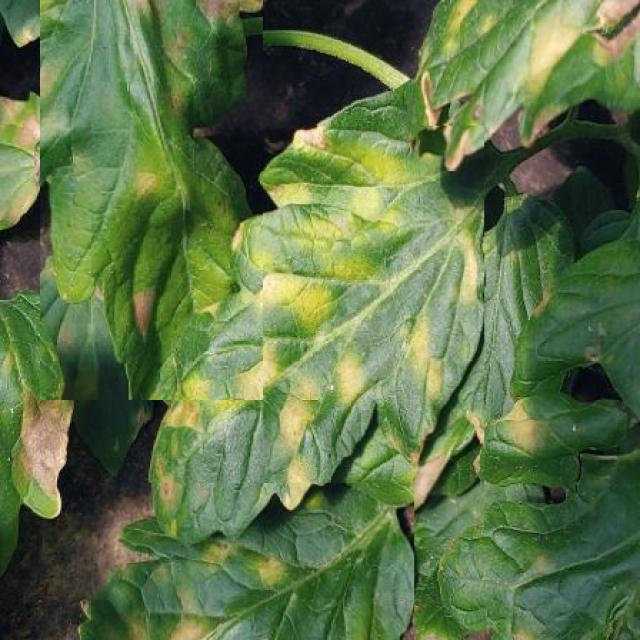Leaf Mold: (145, 126, 485, 537), (40, 0, 263, 400), (77, 483, 414, 640)
